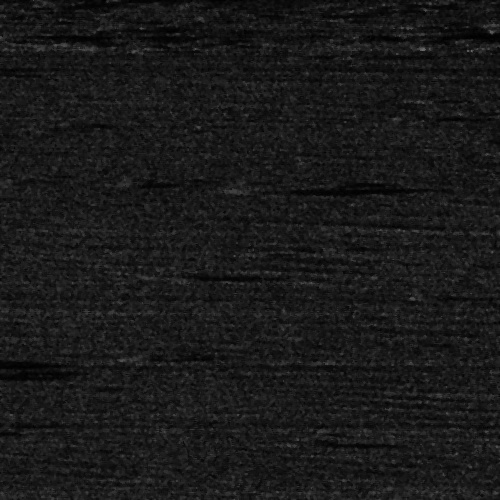object: (391, 29, 464, 36), (163, 268, 194, 283), (201, 184, 274, 189), (249, 439, 302, 442), (6, 32, 47, 35)
shadow: (179, 268, 260, 283), (238, 184, 435, 189), (428, 29, 500, 36), (0, 357, 40, 366), (276, 439, 389, 442), (27, 32, 101, 35), (0, 427, 11, 434)
